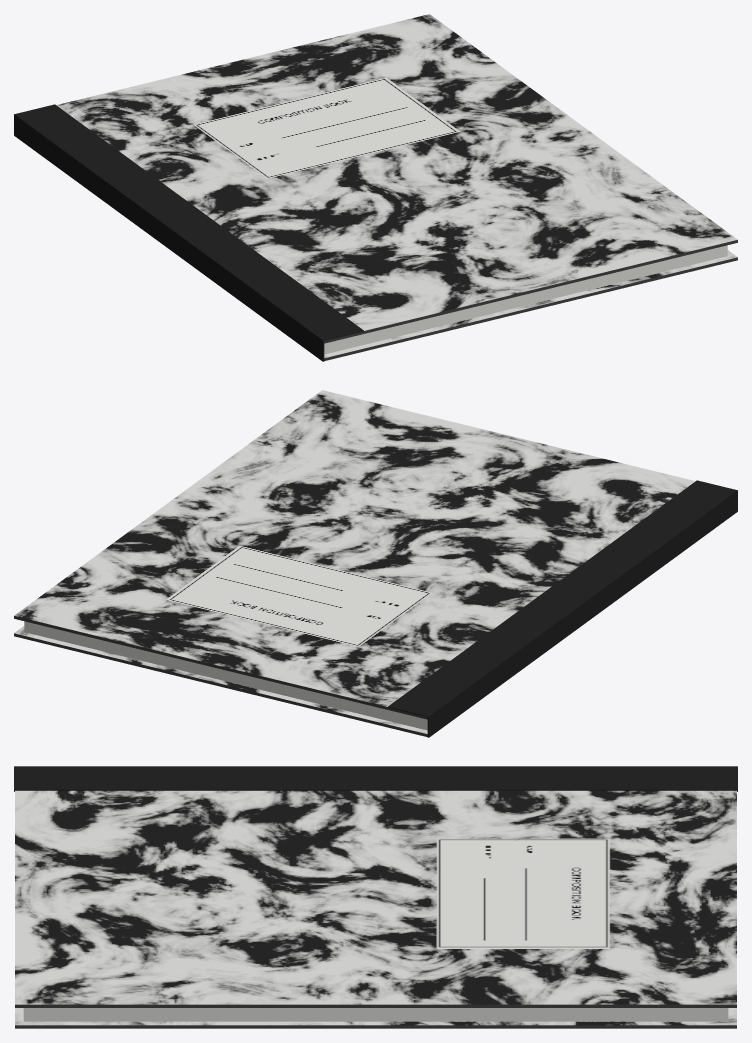
Rendered from Notebook.glb.
3 views of the same model, one above another, from view 1: azimuth 30°, elevation 25°; view 2: azimuth 150°, elevation 25°; view 3: azimuth 270°, elevation 25° (orthographic). The views are drawn at different scales.
Visible parts, largest first — view 1: SM_CompositionNotebook; view 2: SM_CompositionNotebook; view 3: SM_CompositionNotebook.
Part boxes in pixels (box(x1,y1,x2,y2)): SM_CompositionNotebook: box(14, 14, 737, 361); SM_CompositionNotebook: box(14, 390, 737, 737); SM_CompositionNotebook: box(14, 766, 737, 1028).
Size of the model in its own units: 0.1905 by 0.0094 by 0.2456.
1 material, 1 textured.
